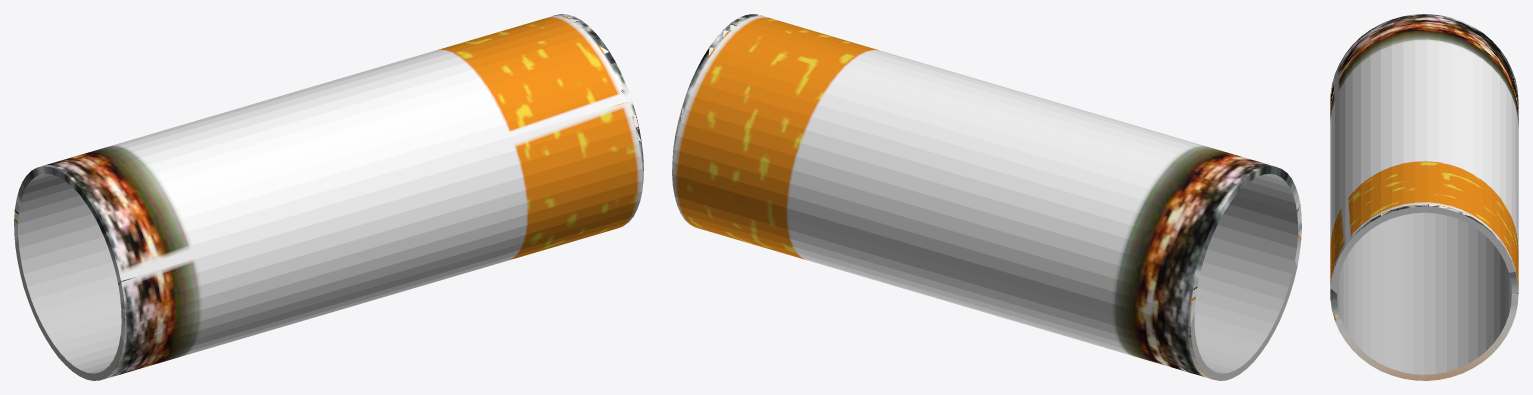
Rendered from cigarro2.dae.
The picture shows the model from 3 angles, left to right: view 1: azimuth 30°, elevation 25°; view 2: azimuth 150°, elevation 25°; view 3: azimuth 270°, elevation 25°; orthographic projection. The views are drawn at different scales.
Parts seen in each view (by area): view 1: node; view 2: node; view 3: node.
Part boxes in pixels (x1=…): node: x1=14, y1=14, x2=643, y2=380; node: x1=672, y1=14, x2=1301, y2=380; node: x1=1330, y1=14, x2=1518, y2=380.
Size of the model in its own units: 26.43 by 10.85 by 9.62.
